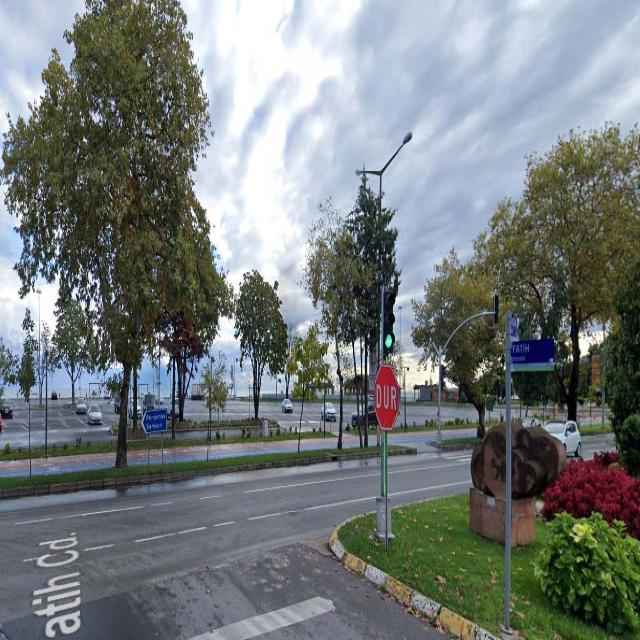dur: (375, 367, 401, 427)
yesil: (382, 289, 394, 356)
